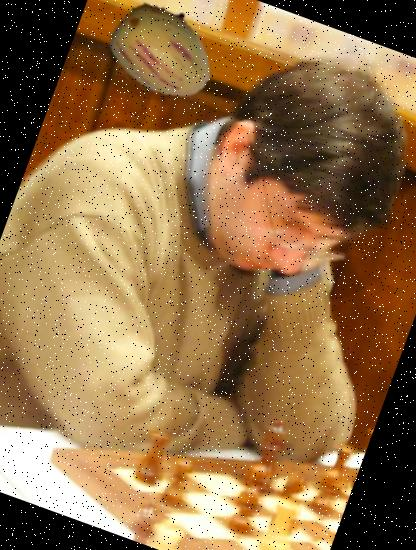Pepino: (93, 0, 233, 119)
